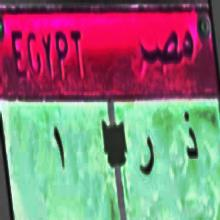1: (52, 115, 68, 180)
raa: (137, 129, 156, 185)
zaal: (181, 107, 200, 176)
